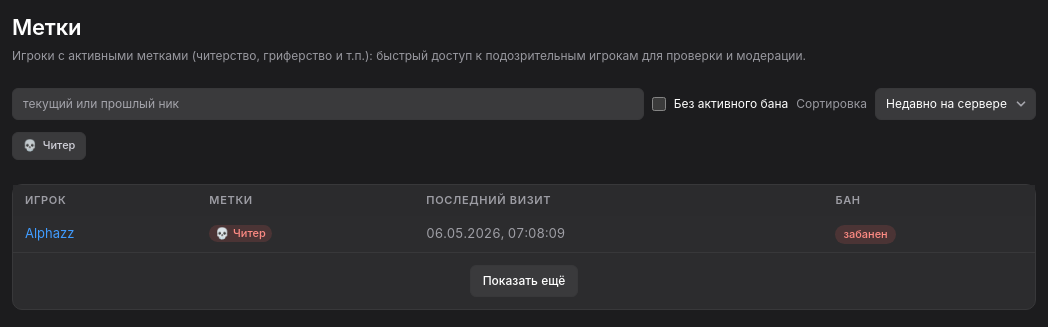
Test: SuspectsBrowser › drops a "load more" page that finishes after the filter changed
Expected: the link "Alphazz" is shown, [25, 225, 74, 241]
Click the button "Показать ещё".
click(524, 281)  # box [470, 265, 578, 297]
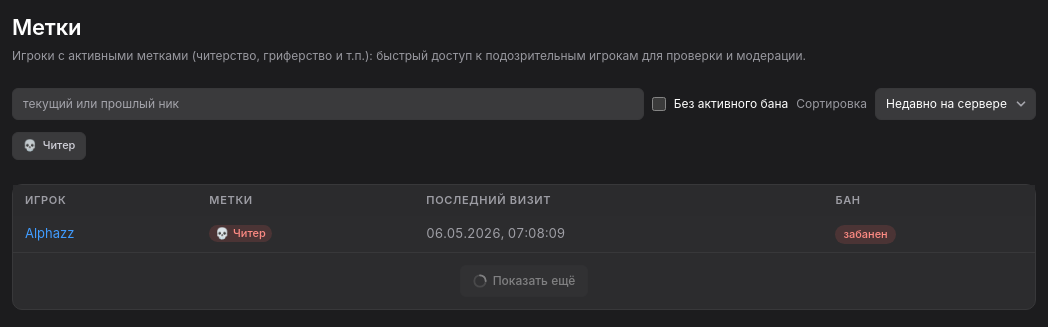
Click the button "💀 Читер".
click(49, 146)  # box [12, 132, 86, 160]
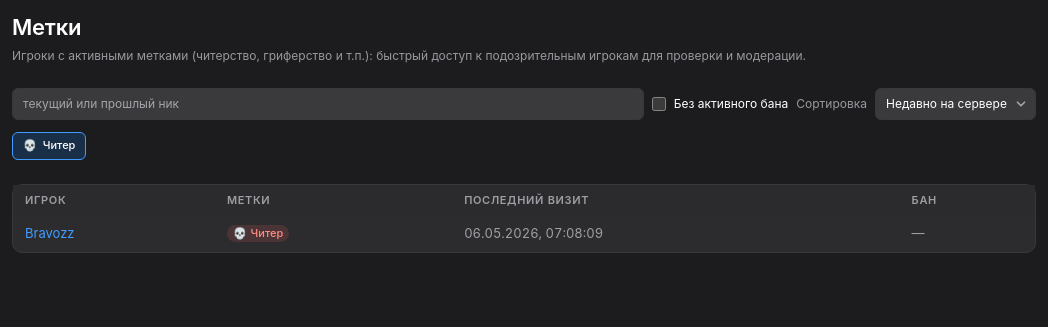
Expected: the link "Bravozz" is shown, [25, 225, 74, 241]
Expected: the link "Alphazz" is gone
